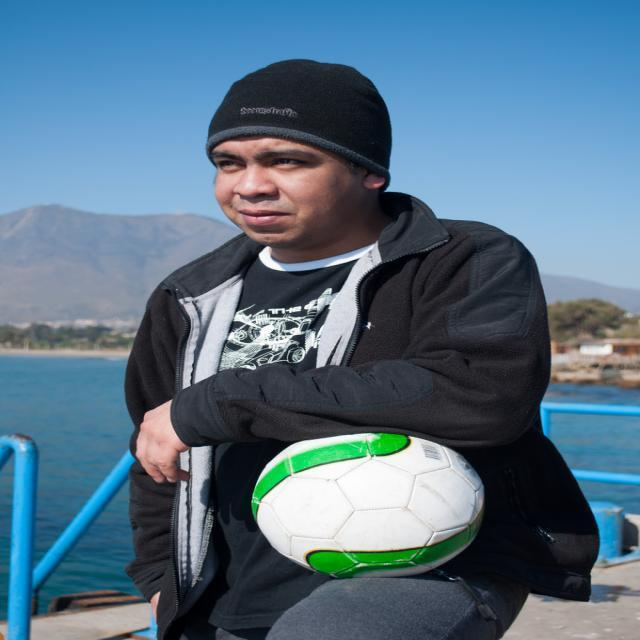football: (250, 432, 498, 591)
